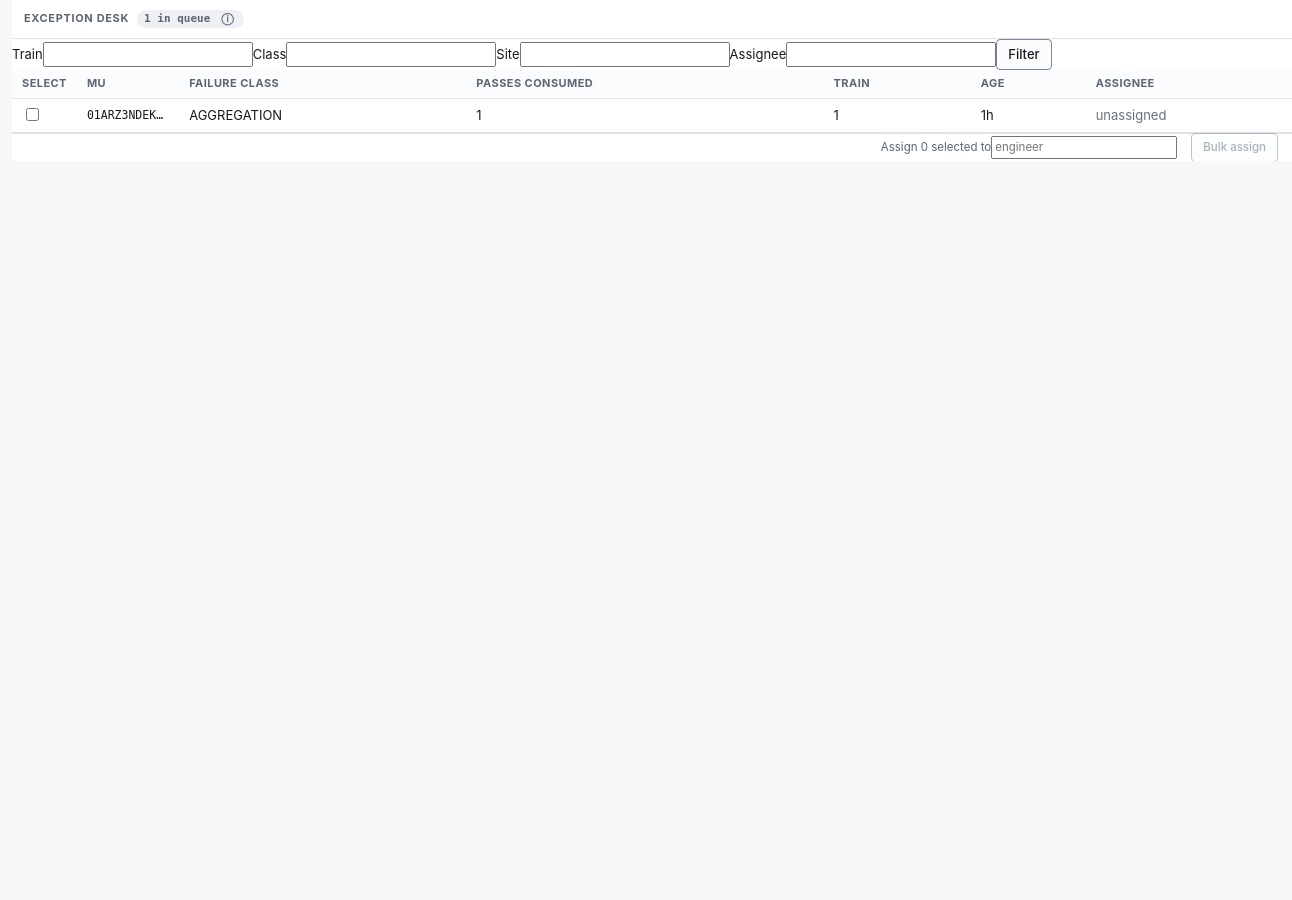
Scenario: a deep link to a case (story S10.1.1) › writes the loaded case back into the URL
Click the text "01ARZ3NDEKTSV4RRFFQ69G5FAV" at (128, 116), box [77, 99, 179, 133]
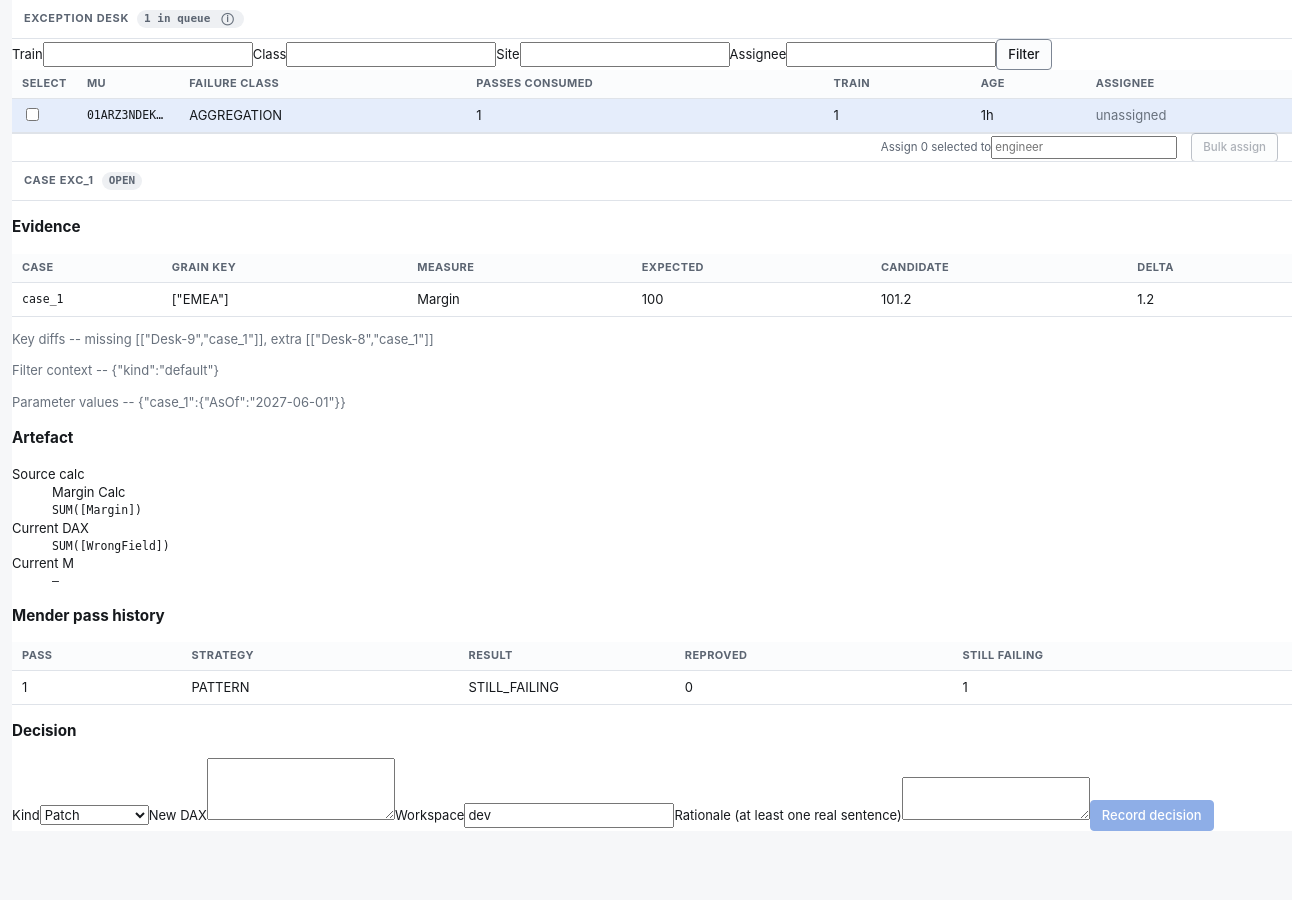
Expected: the text "Margin" is shown, [407, 282, 632, 316]
